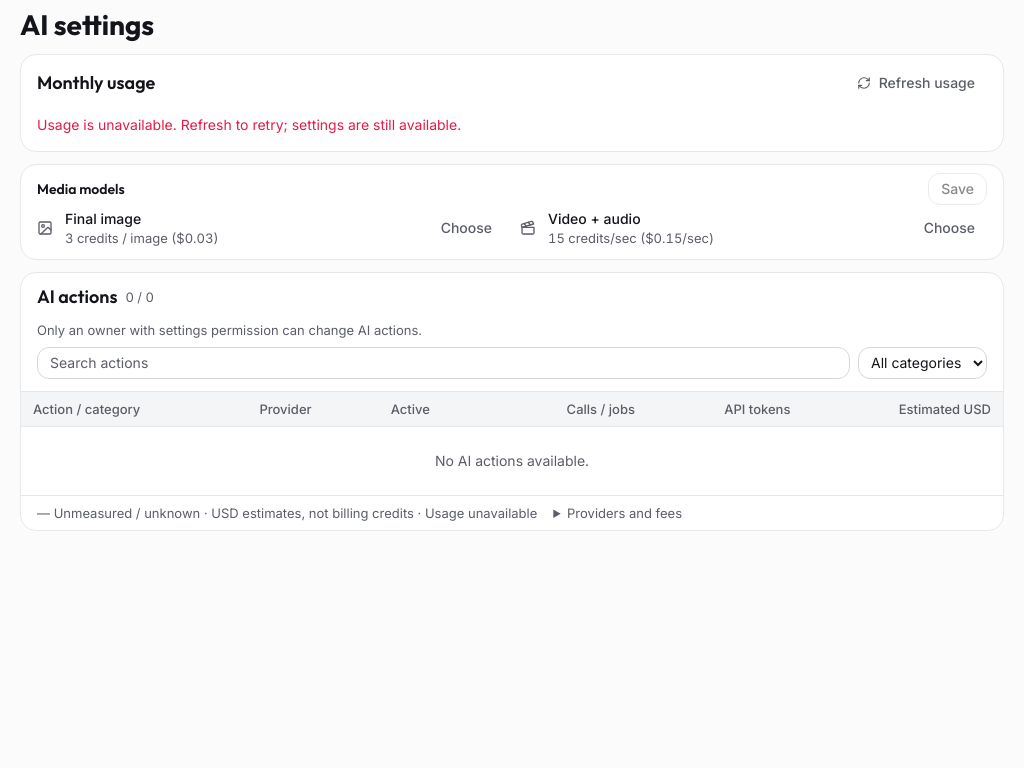
Test: AiModelsPage › says nothing of the sort when the stored choice is fine
Click the button with aria-label "Choose video model" at [949, 228], box [912,212,987,244]
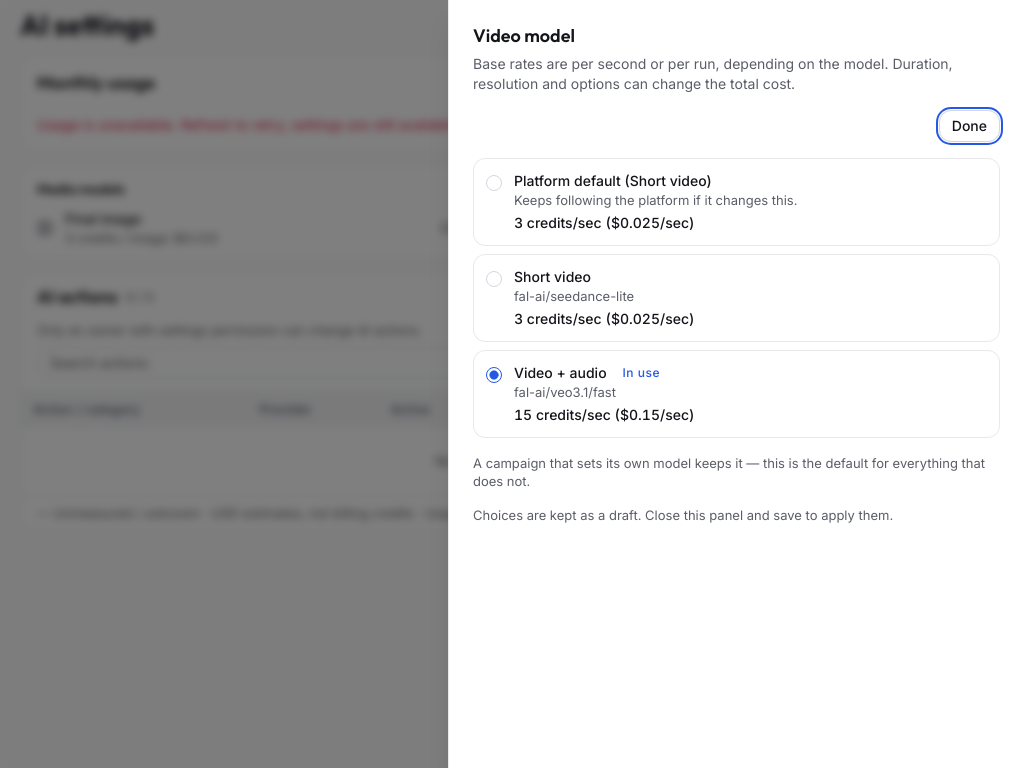
Expected: the text "Video + audio" is shown, [548,210,641,227]
Expected: the dialog "Video model" is shown, [448,0,1023,767]
